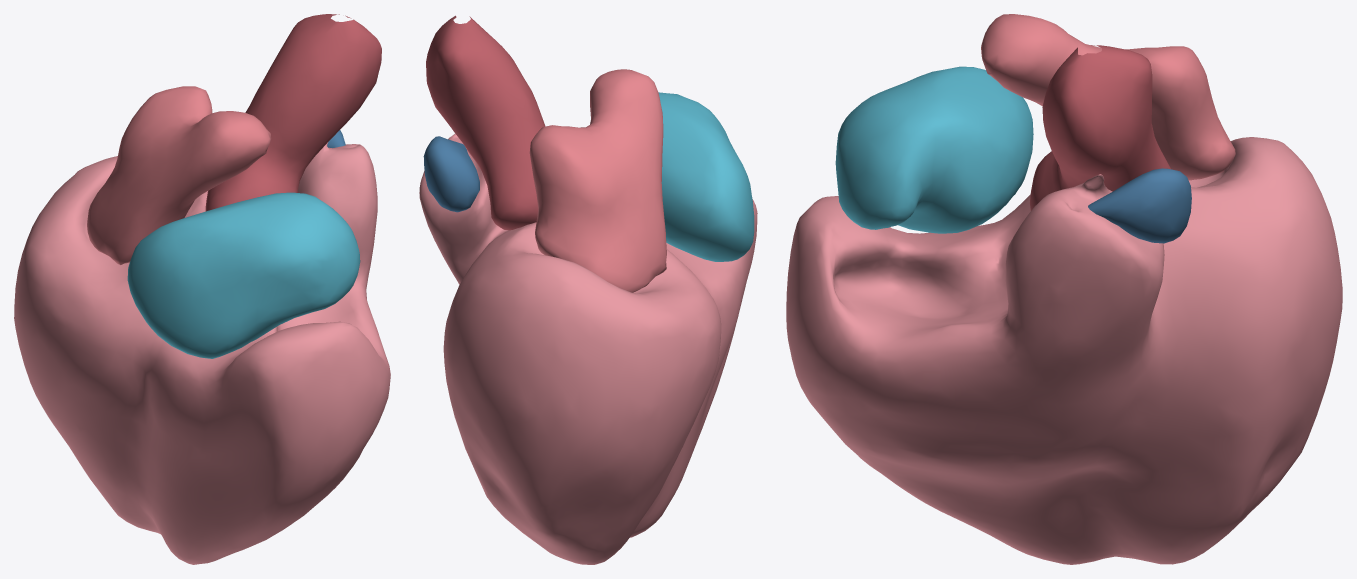
The model's file is frame_43.glb.
The picture shows the model from 3 angles, left to right: view 1: azimuth 30°, elevation 25°; view 2: azimuth 150°, elevation 25°; view 3: azimuth 270°, elevation 25°; orthographic projection. The views are drawn at different scales.
Parts seen in each view (by area): view 1: Renderer Node; view 2: Renderer Node; view 3: Renderer Node.
Boxes of the visible parts, x1,y1,x2,y2 form: Renderer Node: (14,14,390,564); Renderer Node: (419,15,757,564); Renderer Node: (786,14,1342,564).
Size of the model in its own units: 107 by 165 by 136.
